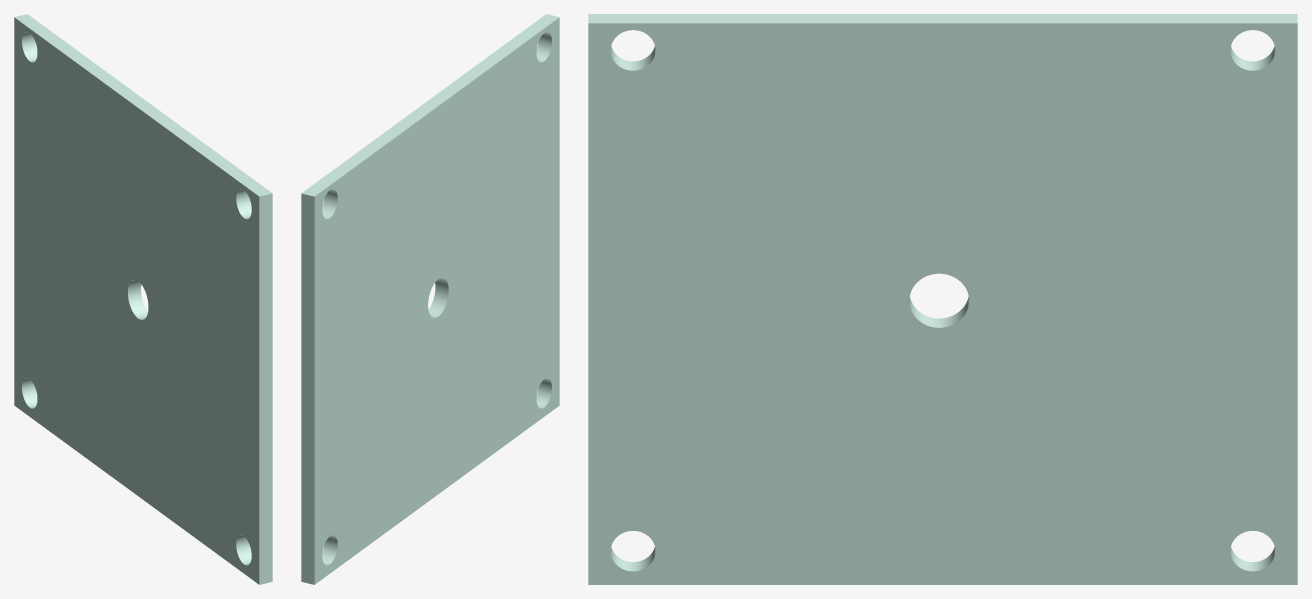
The picture shows the model from 3 angles, left to right: view 1: azimuth 30°, elevation 25°; view 2: azimuth 150°, elevation 25°; view 3: azimuth 270°, elevation 25°; orthographic projection. The views are drawn at different scales.
Parts seen in each view (by area): view 1: Renderer Node; view 2: Renderer Node; view 3: Renderer Node.
Boxes of the visible parts, x1,y1,x2,y2 form: Renderer Node: [14, 14, 272, 584]; Renderer Node: [301, 14, 559, 584]; Renderer Node: [588, 14, 1297, 584].
Size of the model in its own units: 0.0469 by 1.31 by 1.5.
